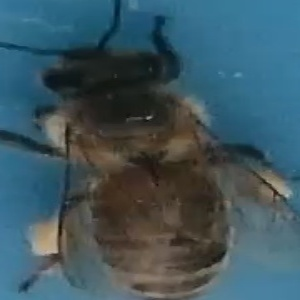bee: (23, 10, 293, 297)
